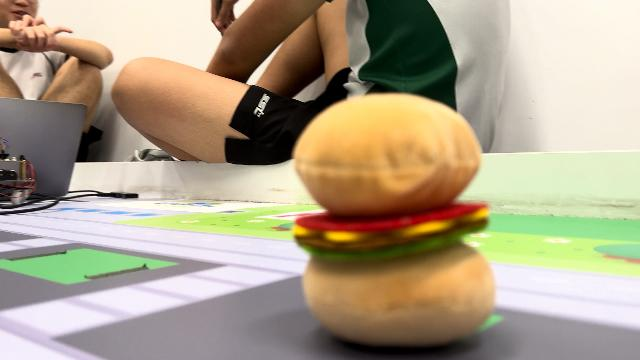burger: (290, 93, 494, 348)
